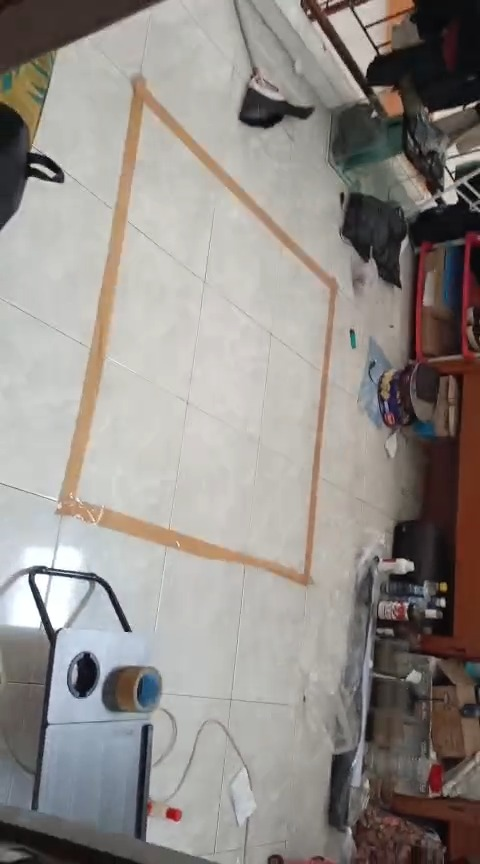floor marking: (56, 76, 335, 585)
